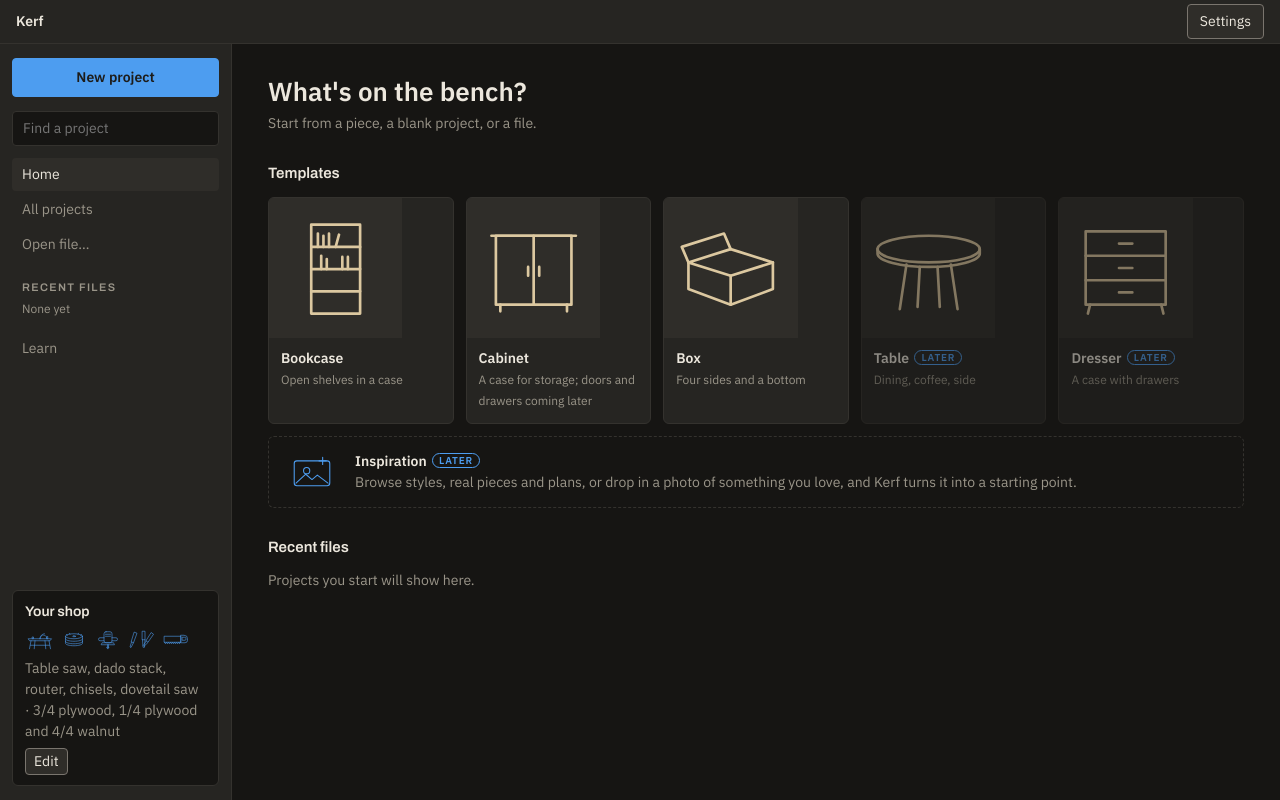
<Home> sidebar › says to make a project first when Learn is pressed with none
This screenshot has width=1280, height=800.
What coordinates should you click on to do the following:
click the button "Learn"
I would click on:
 (116, 348)
Its box is [12, 332, 219, 364].
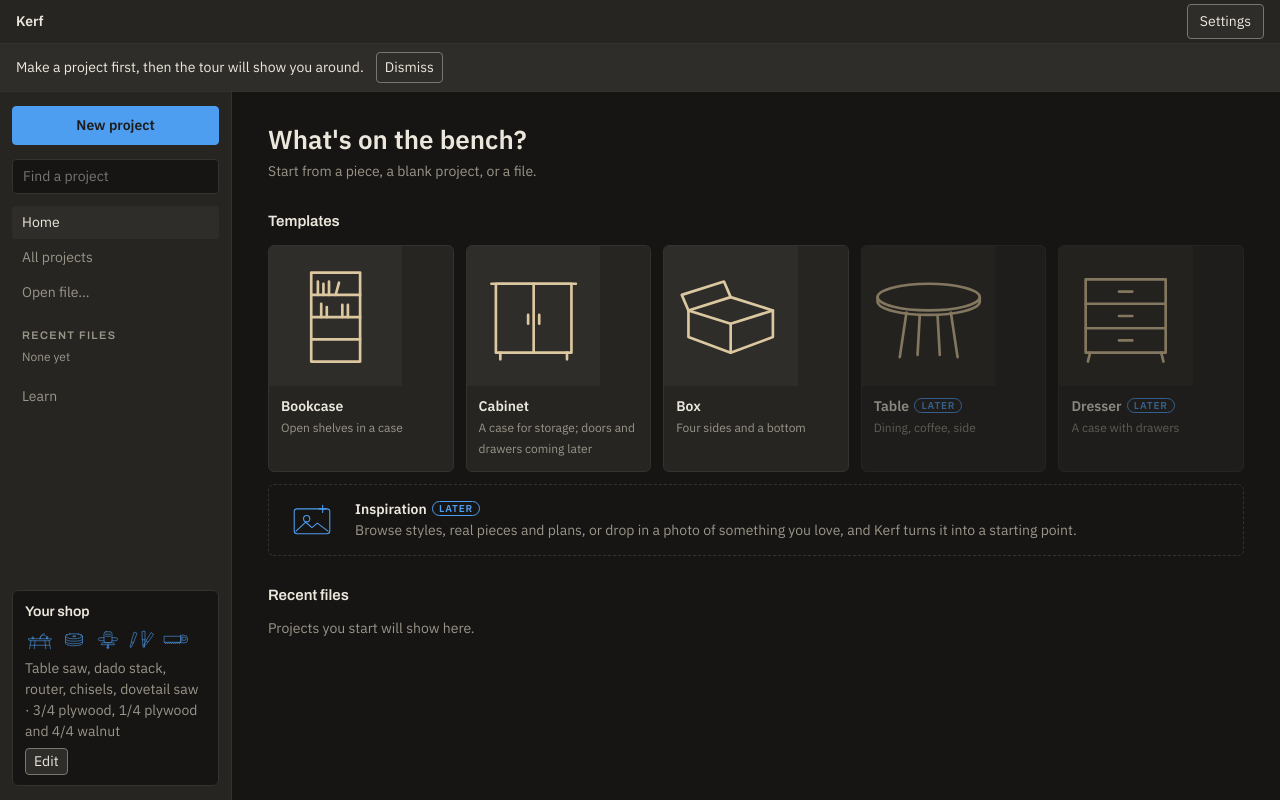
Result: the text "Make a project first, then the tour will show you around." is shown at [16, 57, 364, 78]
